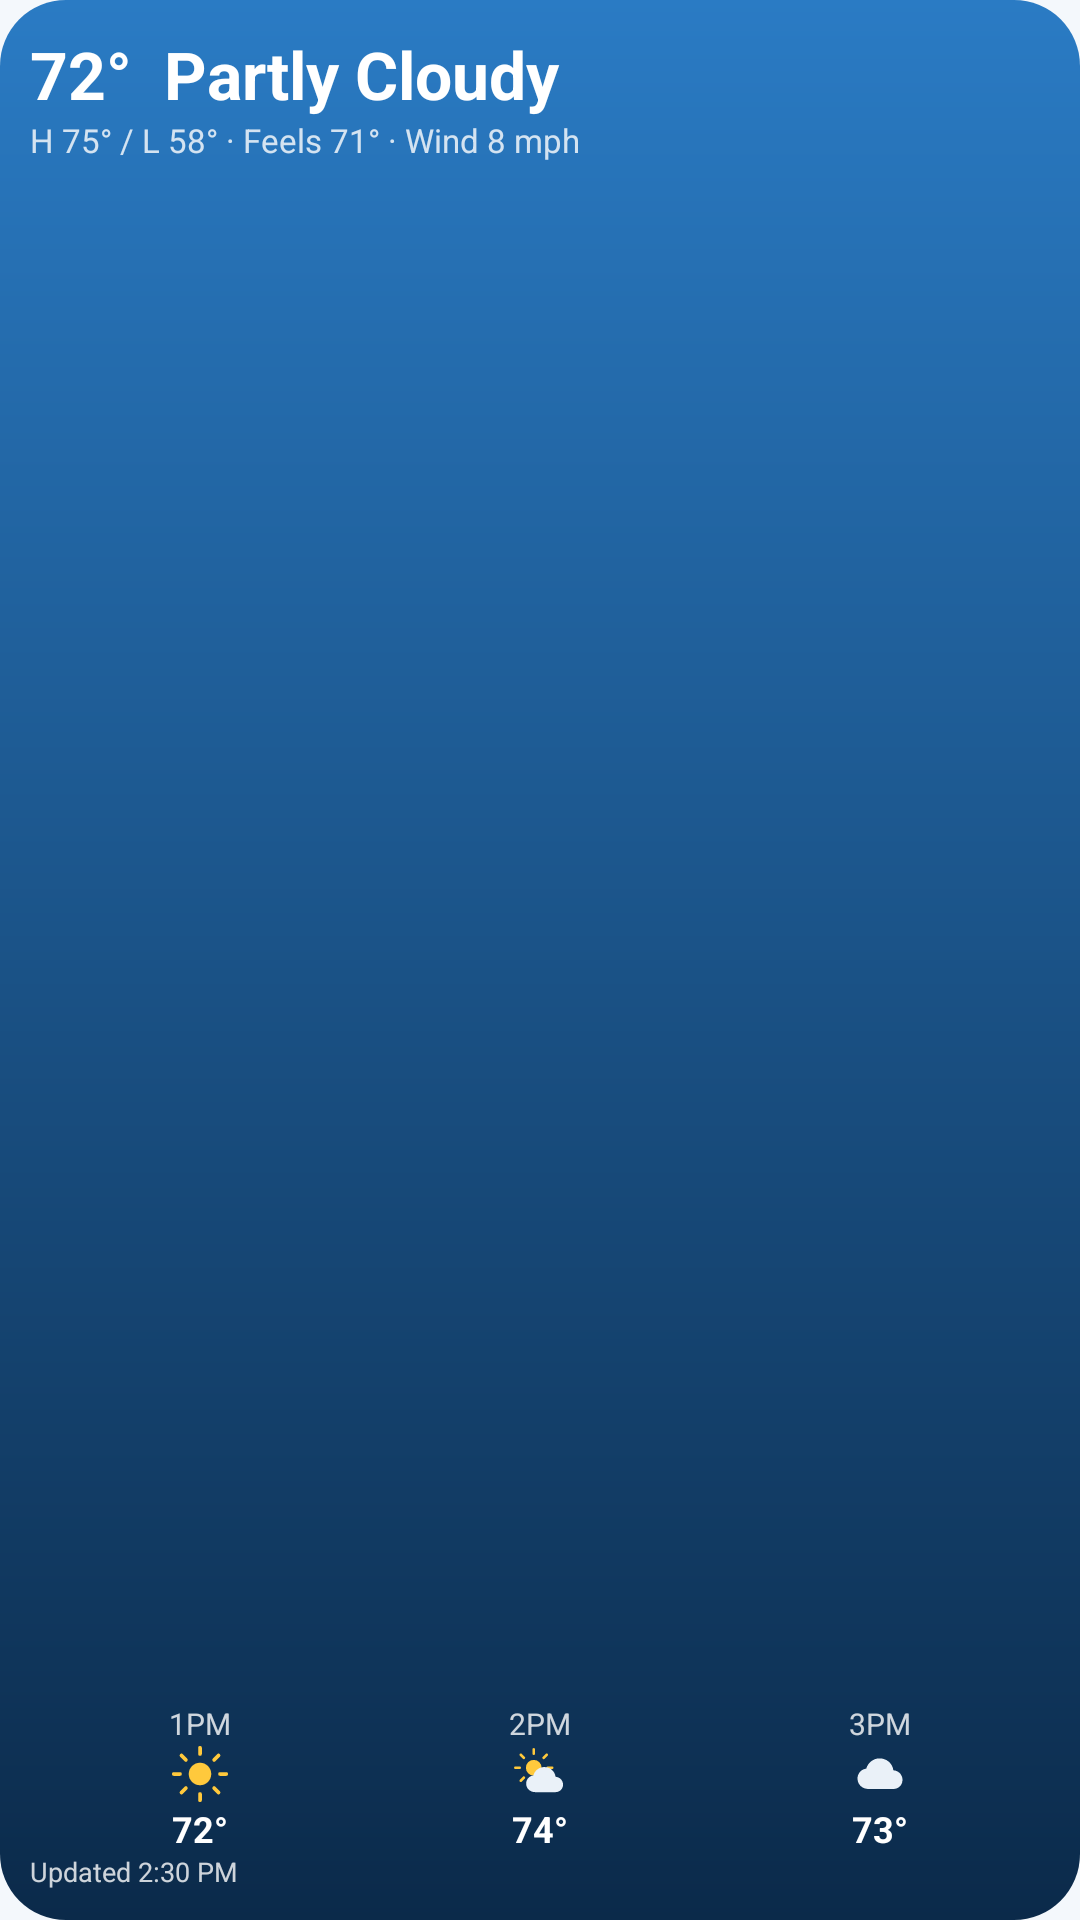

Icons on this 1080w x 1920h Android screen, each with the point to tap as (x,y):
cloud: (880,1773)
partly day: (538,1770)
sun: (200,1774)
